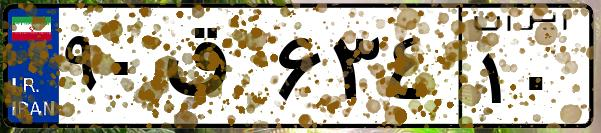0: (525, 38, 570, 115), (110, 28, 158, 98)
1: (475, 38, 525, 113)
3: (330, 28, 385, 110)
4: (385, 28, 445, 110)
6: (270, 28, 330, 110)
9: (57, 26, 110, 100)
ق: (158, 20, 270, 120)
